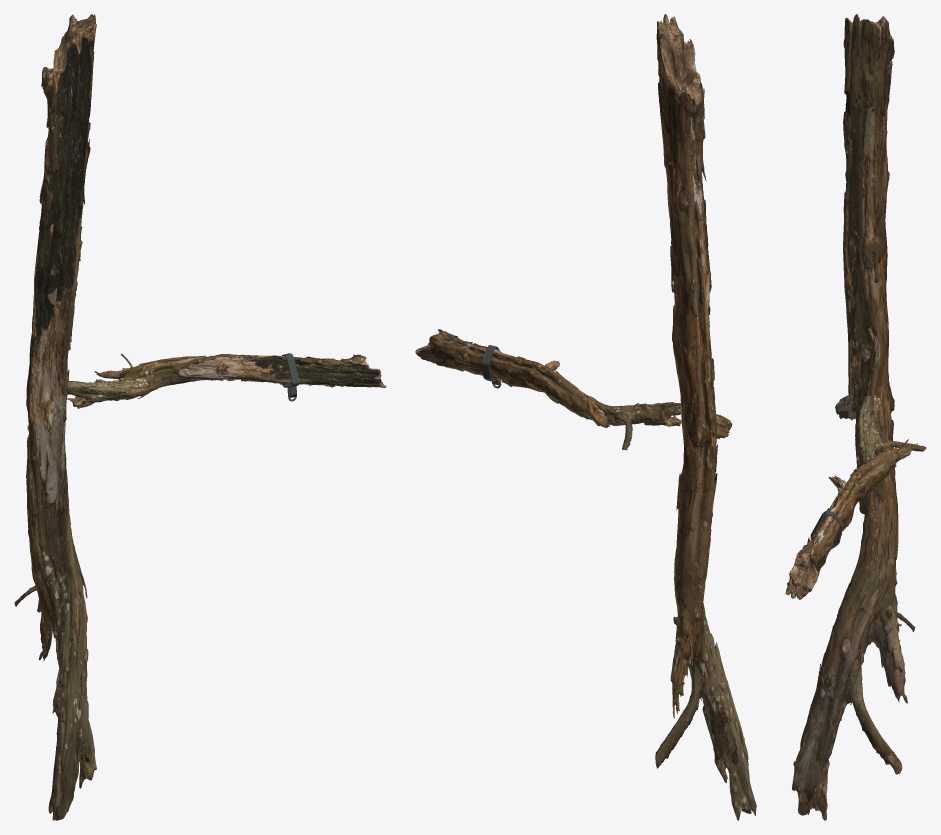
The model's file is canopy-branch.glb.
3 views of the same model, side by side, from view 1: azimuth 30°, elevation 25°; view 2: azimuth 150°, elevation 25°; view 3: azimuth 270°, elevation 25° (orthographic). The views are drawn at different scales.
Parts seen in each view (by area): view 1: Foreground pine trunk, Weathered canopy branch; view 2: Foreground pine trunk, Weathered canopy branch; view 3: Foreground pine trunk, Weathered canopy branch.
Boxes of the visible parts, <box> form: Foreground pine trunk: <box>14,14,96,820</box>; Weathered canopy branch: <box>67,353,386,408</box>; Foreground pine trunk: <box>655,14,756,820</box>; Weathered canopy branch: <box>415,329,682,450</box>; Foreground pine trunk: <box>792,14,915,820</box>; Weathered canopy branch: <box>785,395,926,599</box>.
Size of the model in its own units: 6.8 by 15.34 by 2.35.
3 materials, 1 textured.
